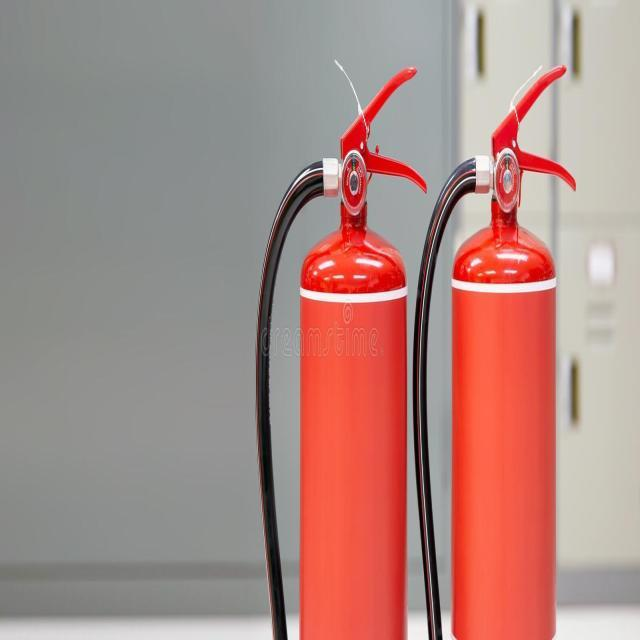fire_extinguisher: (252, 60, 428, 640), (410, 53, 578, 640)
